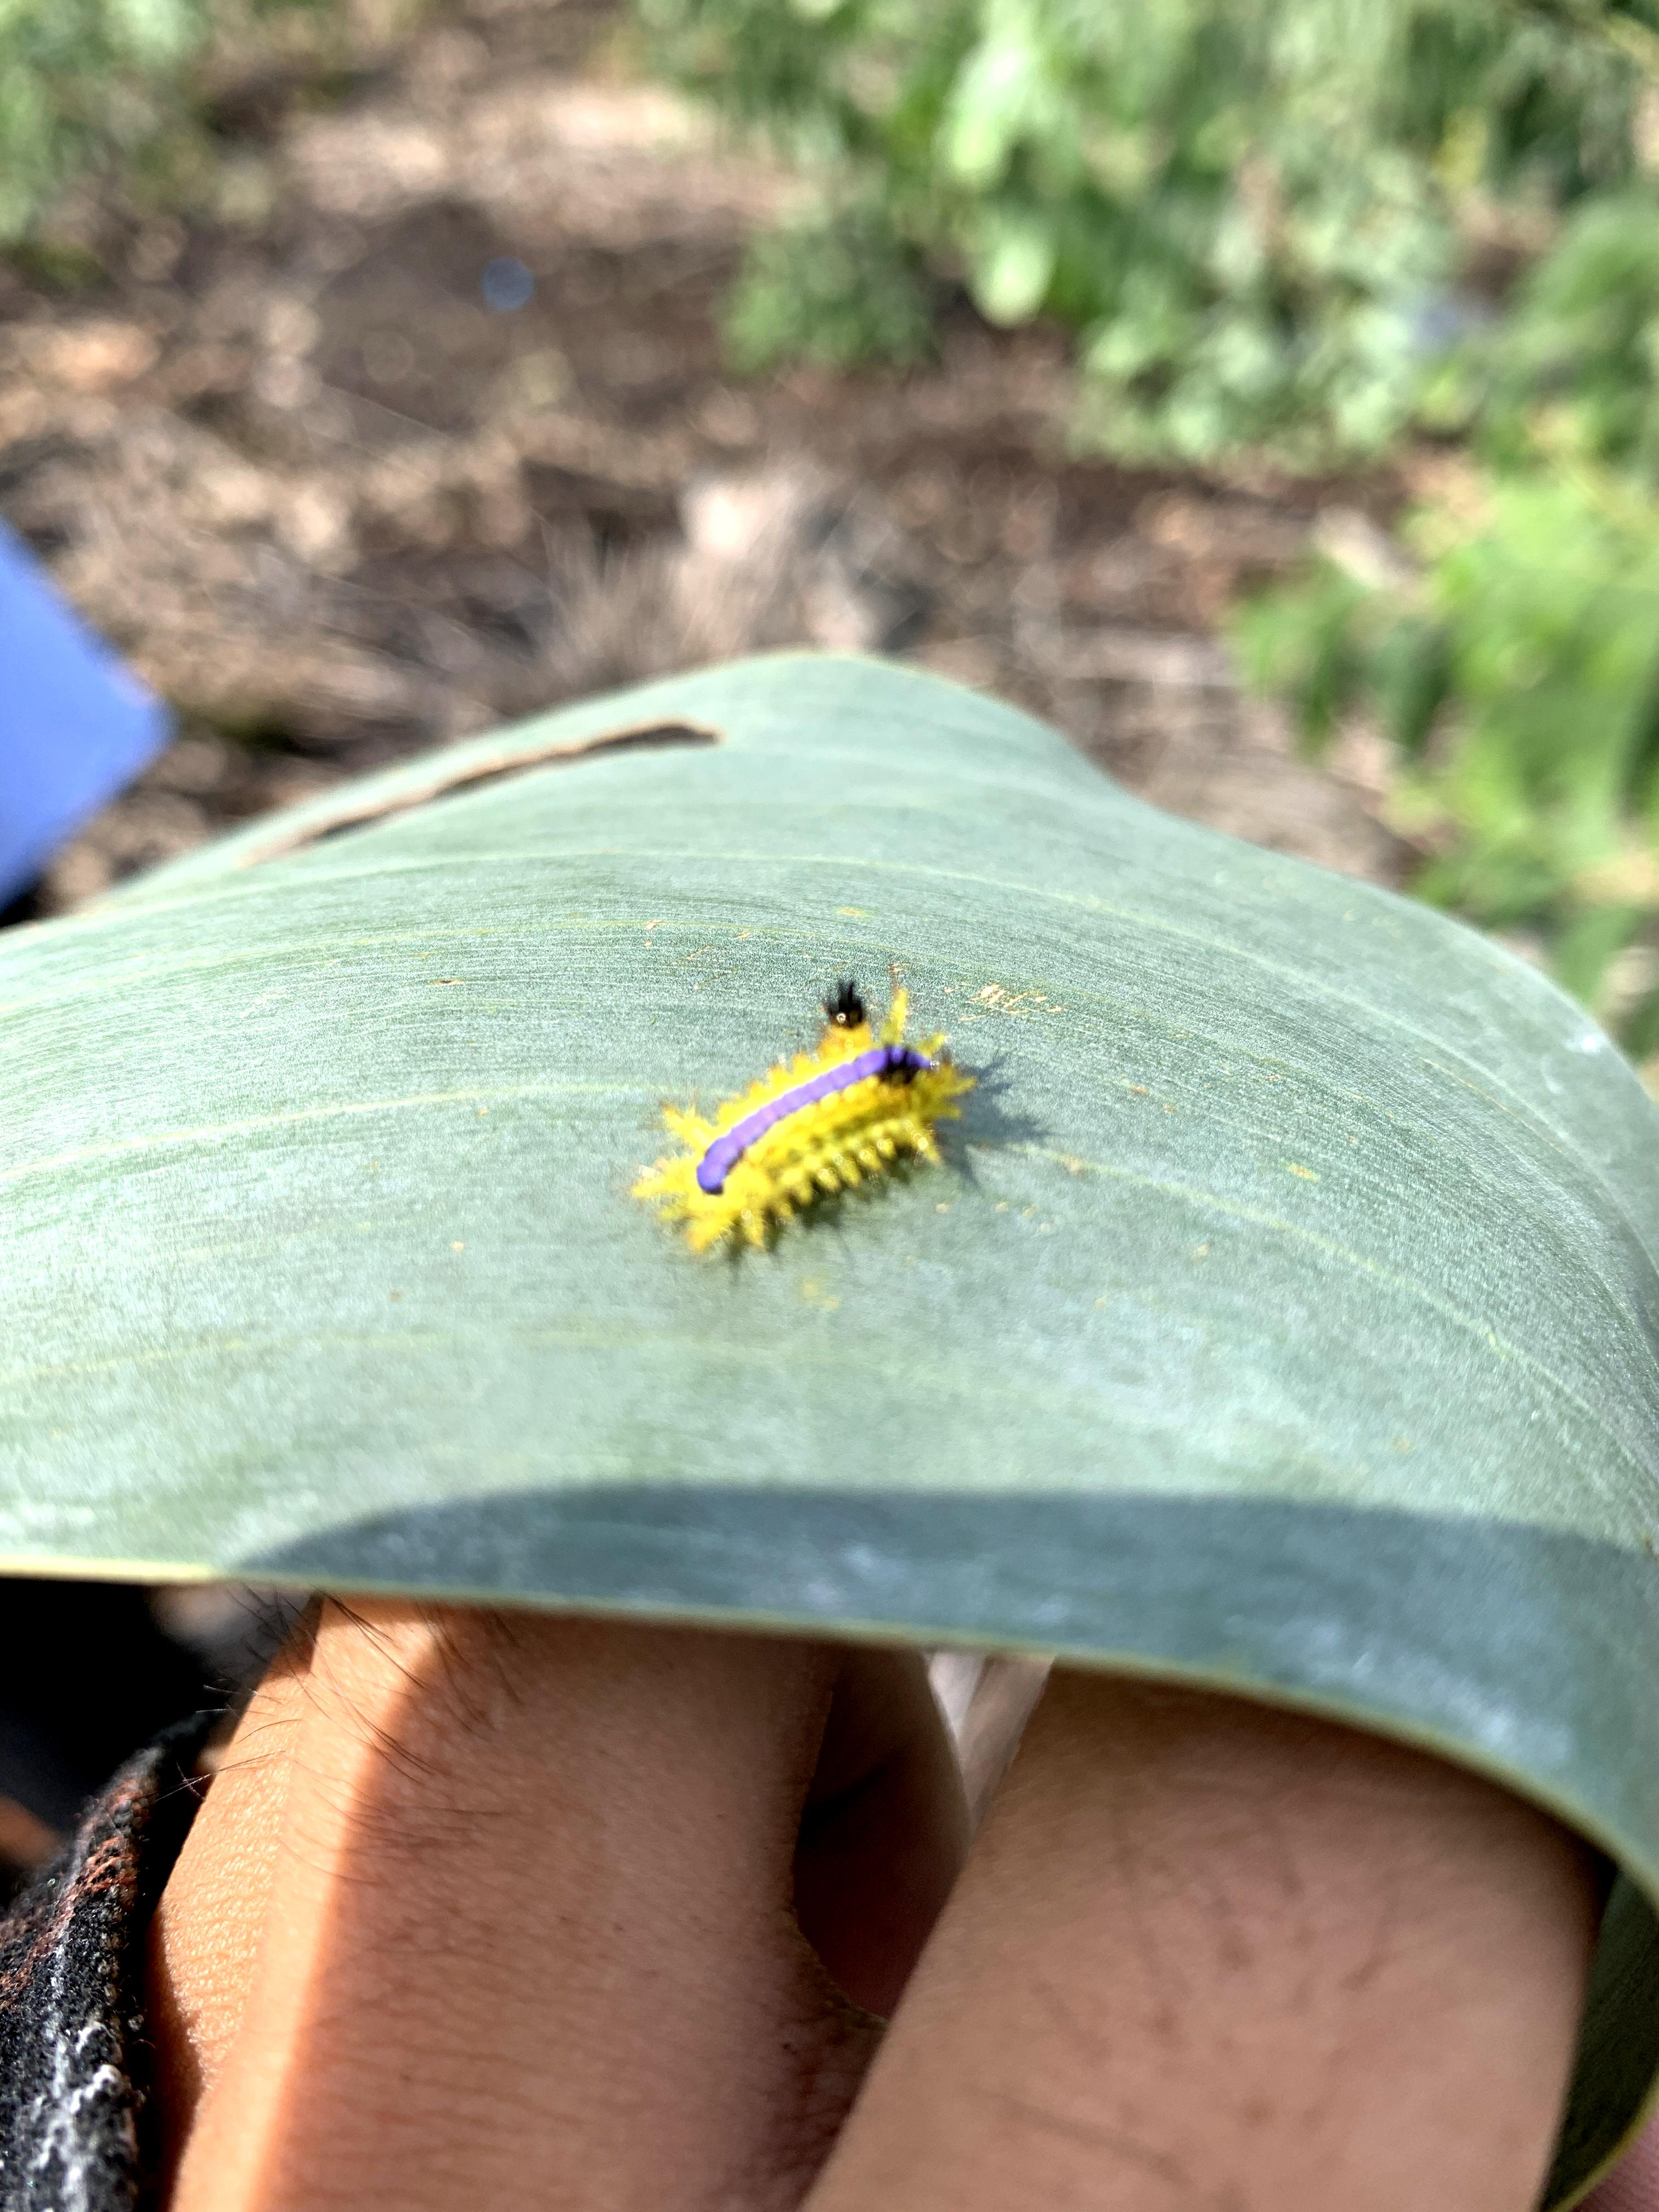Stem Borer: (666, 1015, 972, 1299)
